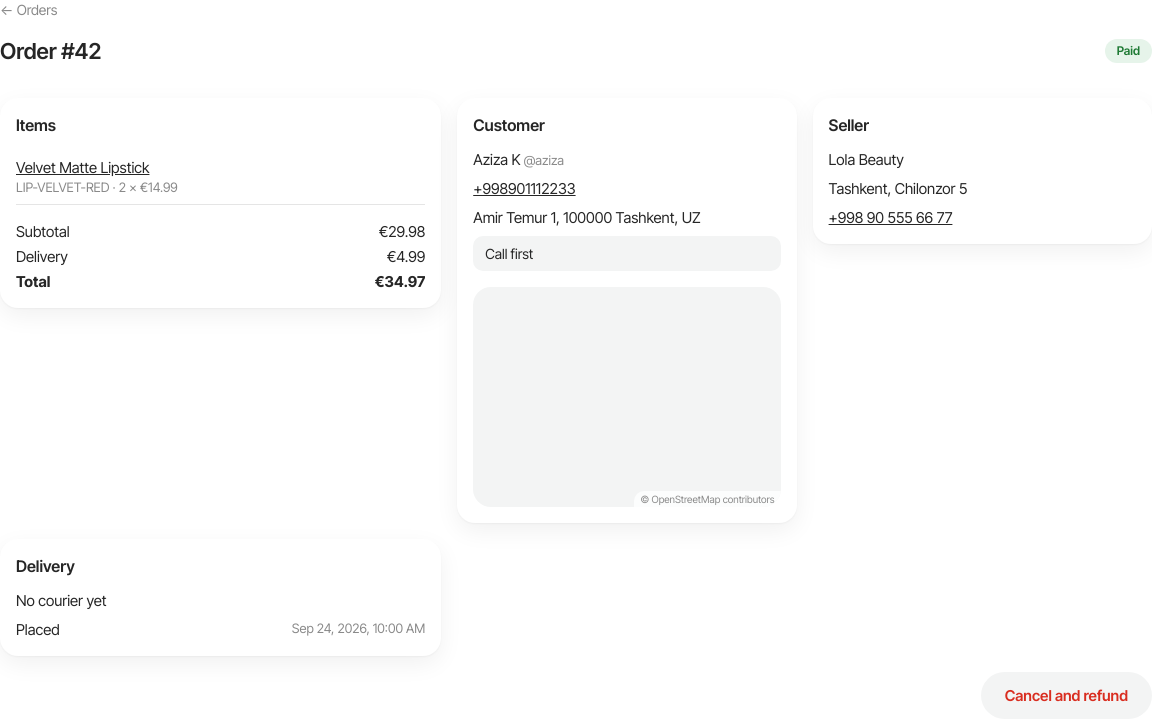
it: OrderDetailScreen › cancels only with a reason, and shows the refund under way
Click the button "Cancel and refund" at (1066, 695), box [981,672,1151,719]
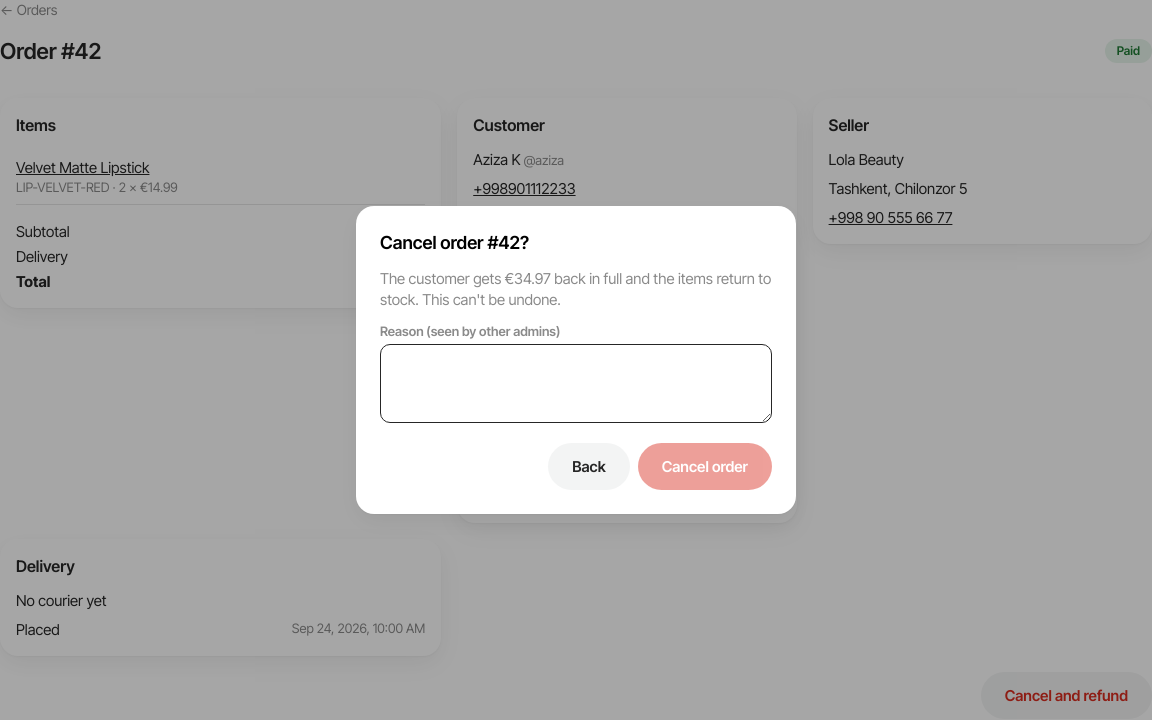
Now the text "gets €34.97 back in full" is shown, box [380,268,771,308]
Now the button "Cancel order" is disabled, box [638,443,772,490]
Type "  Customer asked  " into the text box labelled "Reason (seen by other admins)" at (576, 383), box [380,344,772,423]
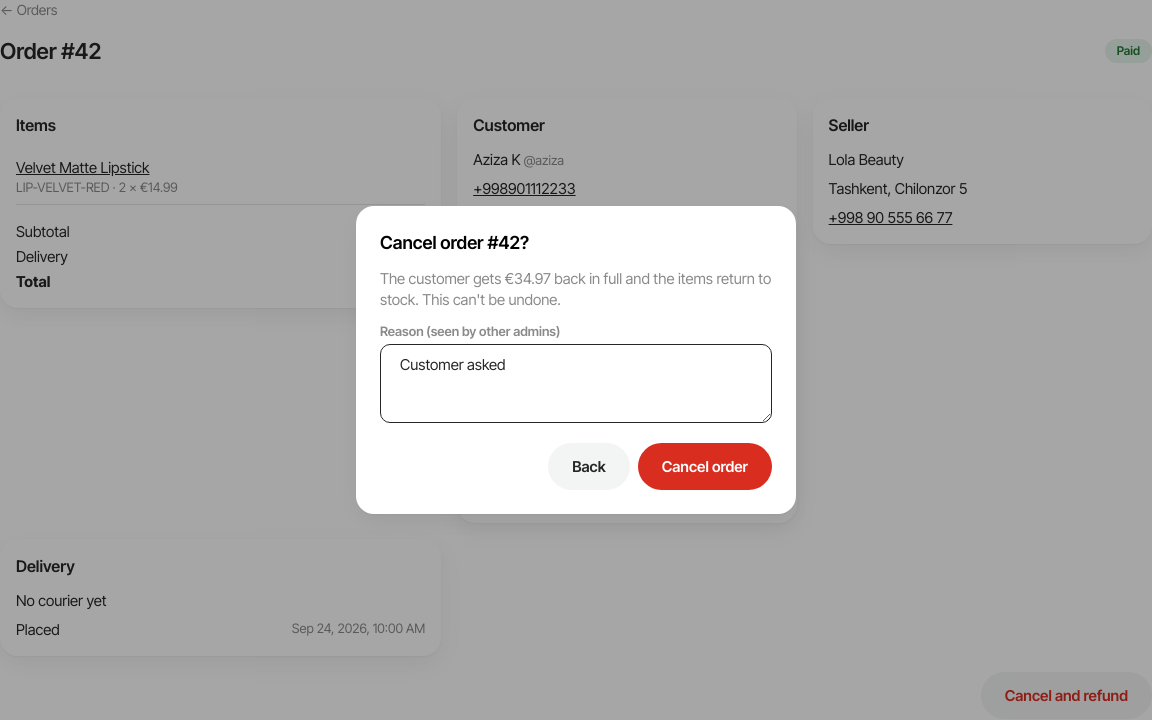
Click the button "Cancel order" at (705, 466), box [638,443,772,490]
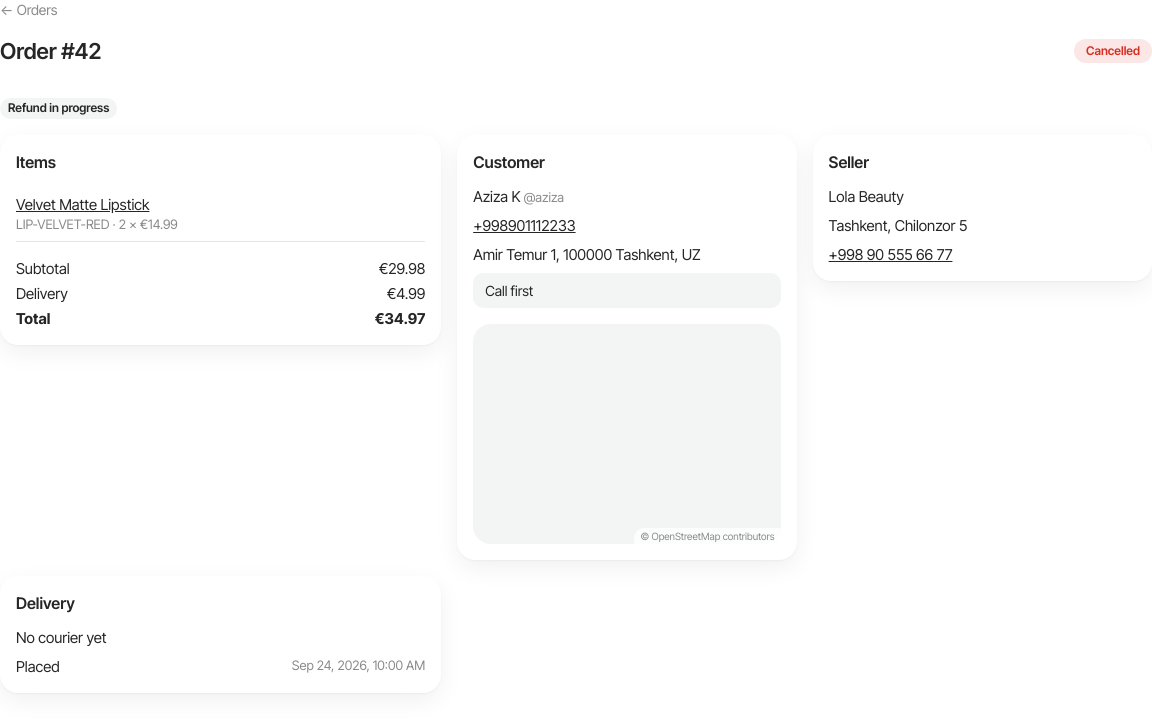
Now the text "Refund in progress" is shown, box [0,98,117,119]
